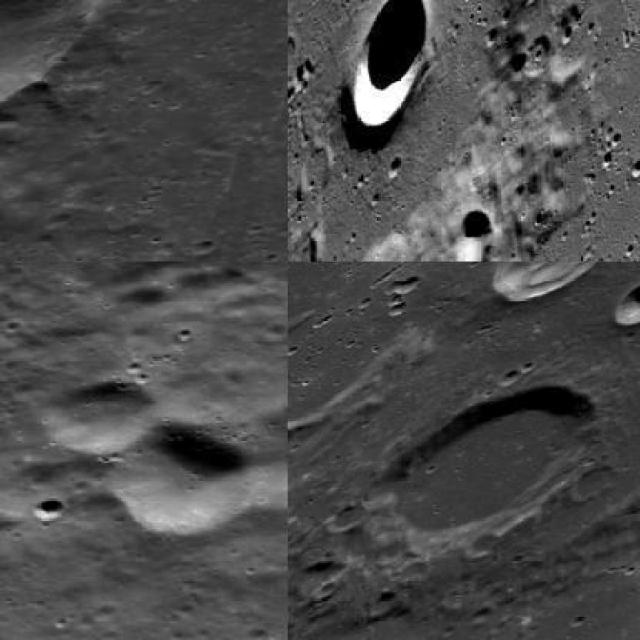crater: (387, 386, 596, 543), (114, 424, 249, 536), (0, 0, 94, 135), (354, 0, 432, 128), (46, 384, 154, 456), (491, 262, 618, 303), (248, 403, 286, 515), (454, 209, 498, 260), (611, 272, 638, 330), (32, 499, 66, 523)
